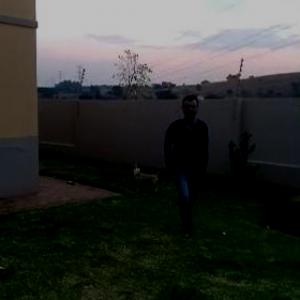follow: (160, 82, 212, 242)
